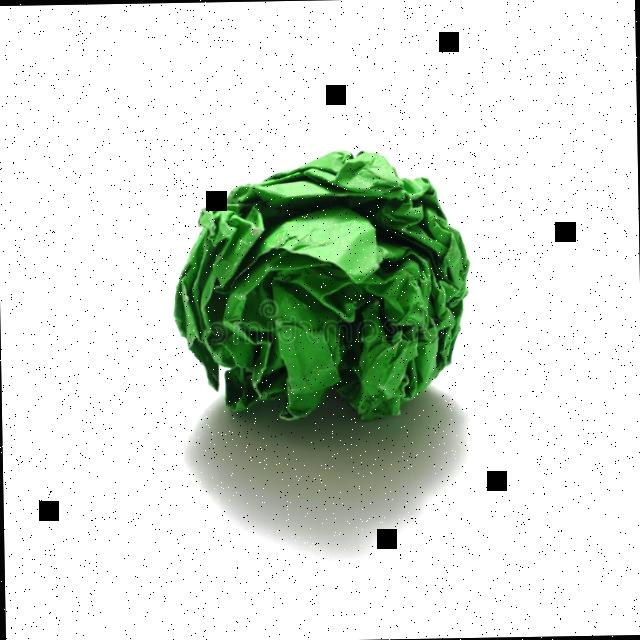scrap_paper: (172, 148, 472, 423)
